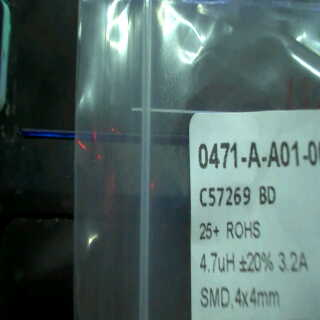4.7uH: (198, 248, 238, 276)
